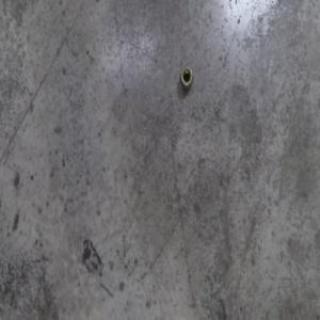Nuttrack_idkeyframe: (178, 66, 193, 92)
